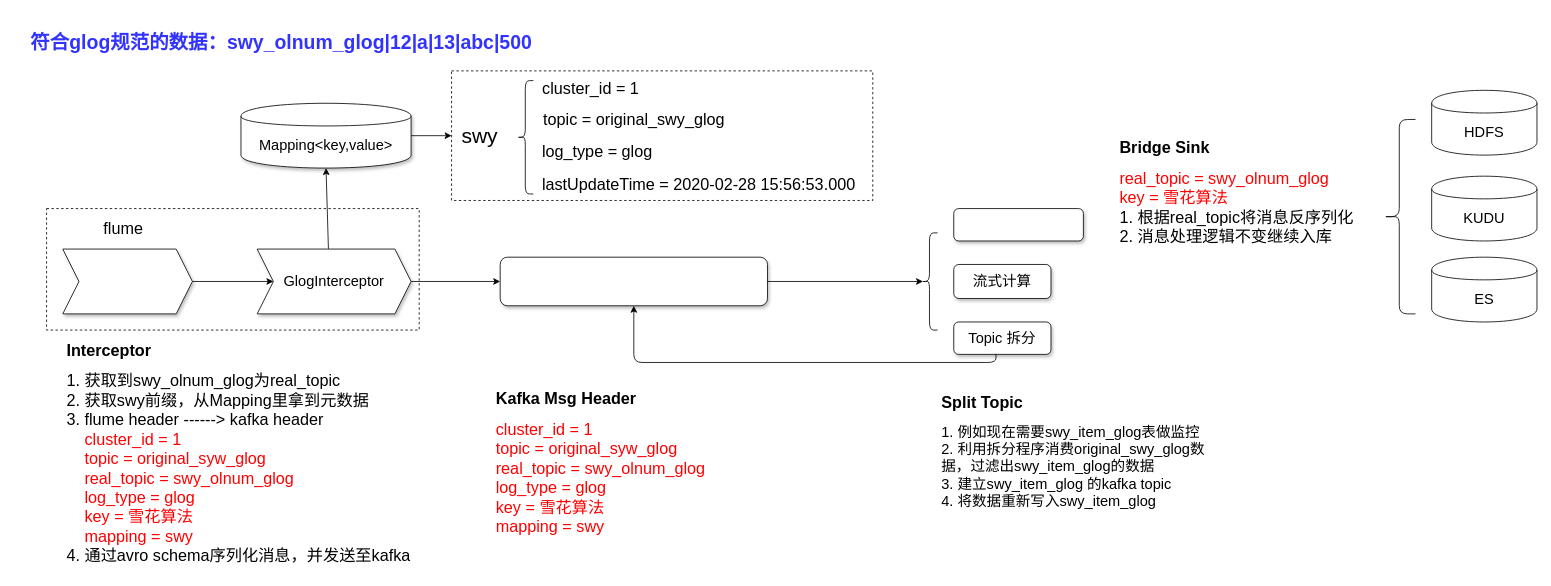
This 1551x586 diagram has some shape labels left out. Each missing label, with the centre of its shape:
Bridge 数据落地: (1019,226)
Kafka（original_swy_glog）: (634,282)
TcpSource: (128,282)
